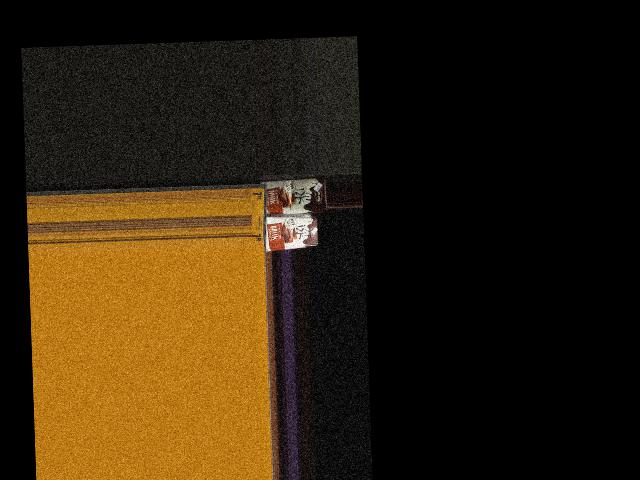chocolate: (258, 215, 320, 254)
